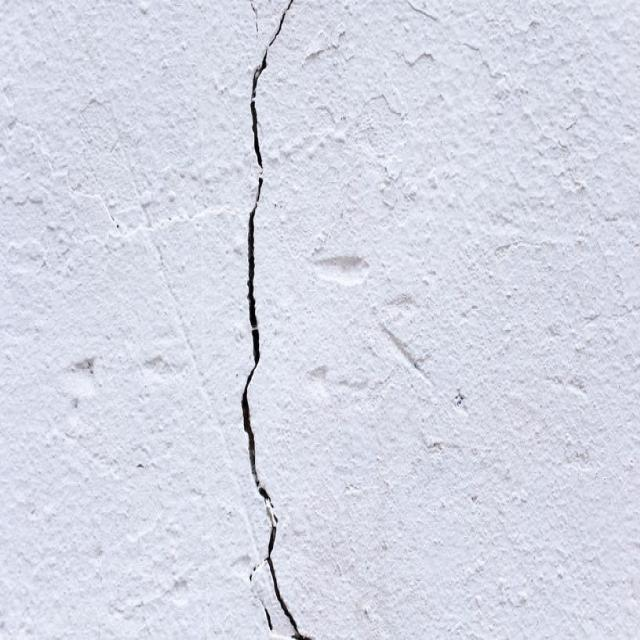Crack: (238, 0, 306, 639)
